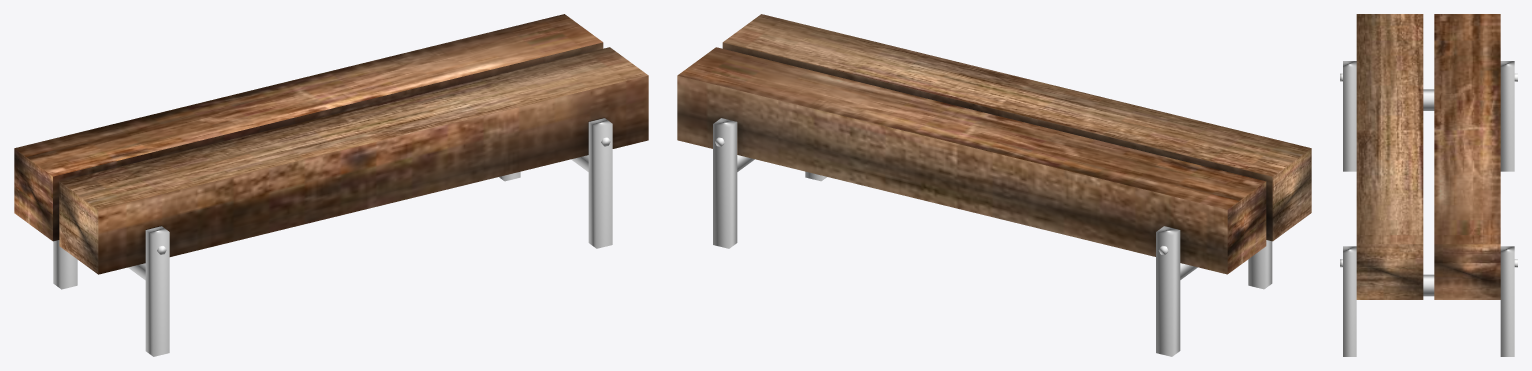
The model's file is bench_02.fbx.
3 renders of one model, left to right at view 1: azimuth 30°, elevation 25°; view 2: azimuth 150°, elevation 25°; view 3: azimuth 270°, elevation 25°, orthographic. The views are drawn at different scales.
Parts seen in each view (by area): view 1: bench; view 2: bench; view 3: bench.
Boxes of the visible parts, x1,y1,x2,y2 form: bench: (14, 14, 648, 356); bench: (677, 14, 1311, 356); bench: (1340, 14, 1517, 356).
Bounding box in the file's own units: 167 × 44.24 × 54.37.
